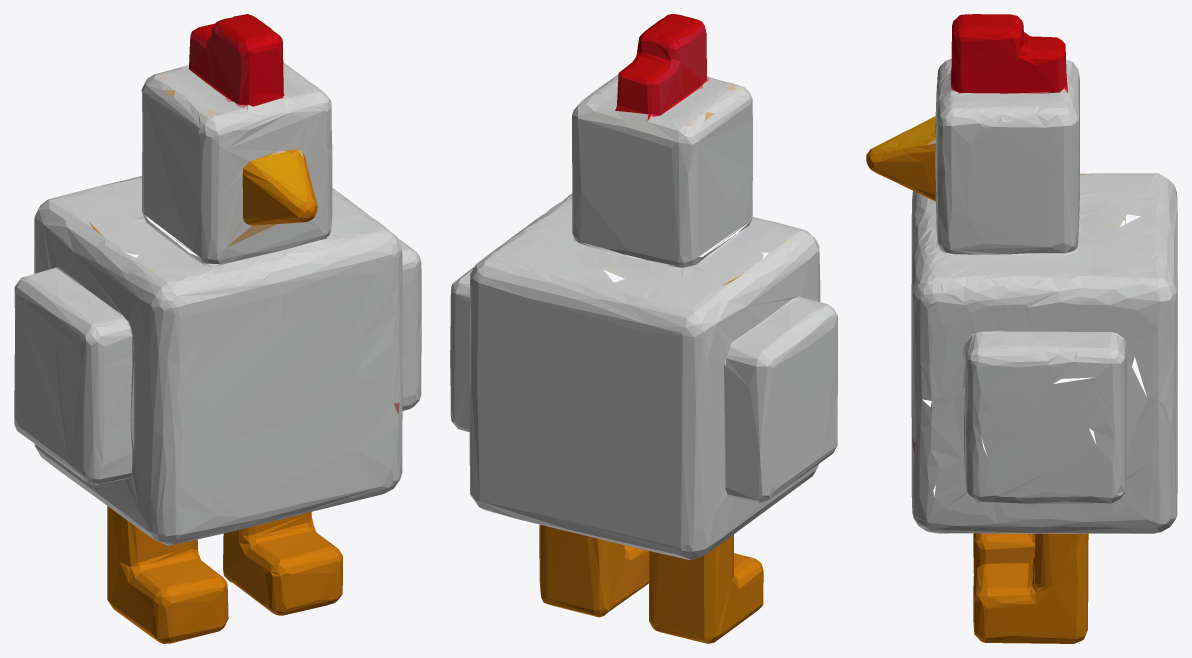
Rendered from m-cruza-pollo.glb.
The picture shows the model from 3 angles, left to right: view 1: azimuth 30°, elevation 25°; view 2: azimuth 150°, elevation 25°; view 3: azimuth 270°, elevation 25°; orthographic projection. The views are drawn at different scales.
Size of the model in its own units: 1.13 by 1.9 by 0.9183.
